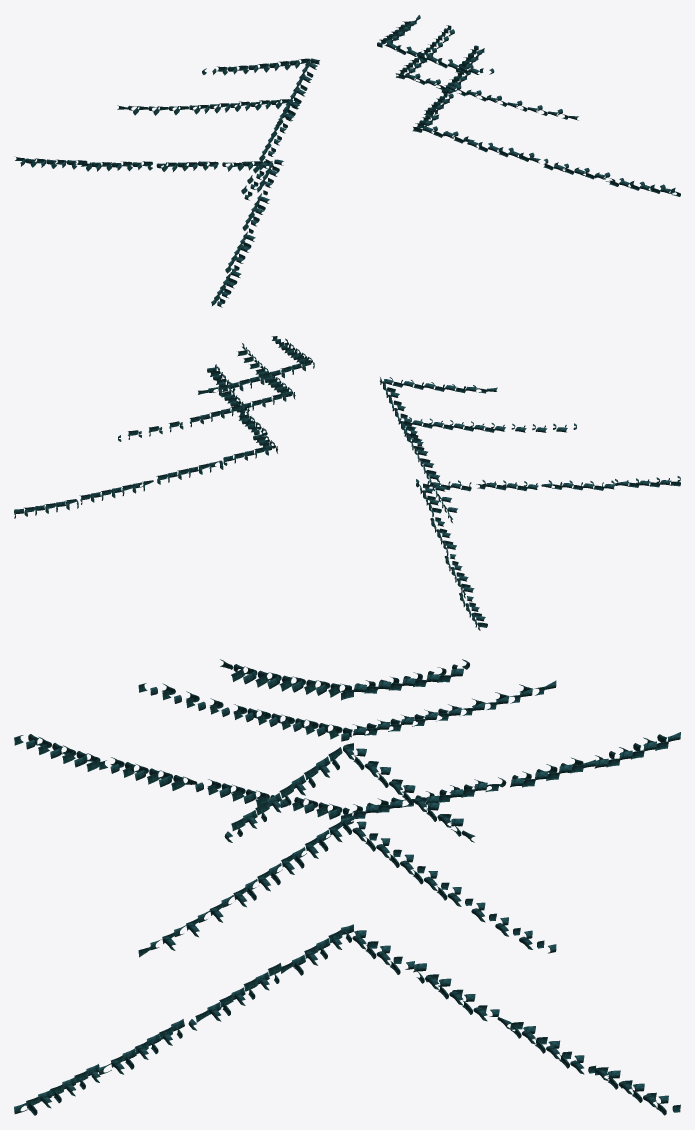
File: R81-03-B-SIX-MERGED-TRUE-HIP-TILE-GLB.glb
3 renders of one model, top to bottom at view 1: azimuth 30°, elevation 25°; view 2: azimuth 150°, elevation 25°; view 3: azimuth 270°, elevation 25°, orthographic. The views are drawn at different scales.
Visible parts, largest first — view 1: R81_B_lower_barrel_SEALED_HIP_TILES, R81_B_lower_pan_SEALED_HIP_TILES, R81_B_middle_barrel_SEALED_HIP_TILES, R81_B_upper_barrel_SEALED_HIP_TILES, R81_B_middle_pan_SEALED_HIP_TILES, R81_B_upper_pan_SEALED_HIP_TILES; view 2: R81_B_lower_barrel_SEALED_HIP_TILES, R81_B_lower_pan_SEALED_HIP_TILES, R81_B_middle_barrel_SEALED_HIP_TILES, R81_B_upper_barrel_SEALED_HIP_TILES, R81_B_middle_pan_SEALED_HIP_TILES, R81_B_upper_pan_SEALED_HIP_TILES; view 3: R81_B_lower_barrel_SEALED_HIP_TILES, R81_B_lower_pan_SEALED_HIP_TILES, R81_B_middle_barrel_SEALED_HIP_TILES, R81_B_upper_barrel_SEALED_HIP_TILES, R81_B_middle_pan_SEALED_HIP_TILES, R81_B_upper_pan_SEALED_HIP_TILES.
Part boxes in pixels (x1,y1,x2,y2): R81_B_lower_barrel_SEALED_HIP_TILES: (14, 49, 671, 307); R81_B_lower_pan_SEALED_HIP_TILES: (20, 45, 680, 305); R81_B_middle_barrel_SEALED_HIP_TILES: (117, 25, 578, 200); R81_B_upper_barrel_SEALED_HIP_TILES: (202, 15, 494, 128); R81_B_middle_pan_SEALED_HIP_TILES: (128, 28, 568, 196); R81_B_upper_pan_SEALED_HIP_TILES: (212, 19, 483, 122); R81_B_lower_barrel_SEALED_HIP_TILES: (24, 366, 680, 630); R81_B_lower_pan_SEALED_HIP_TILES: (14, 364, 680, 627); R81_B_middle_barrel_SEALED_HIP_TILES: (118, 343, 576, 522); R81_B_upper_barrel_SEALED_HIP_TILES: (198, 336, 497, 446); R81_B_middle_pan_SEALED_HIP_TILES: (128, 347, 566, 518); R81_B_upper_pan_SEALED_HIP_TILES: (208, 339, 486, 442); R81_B_lower_barrel_SEALED_HIP_TILES: (14, 732, 680, 1108); R81_B_lower_pan_SEALED_HIP_TILES: (14, 734, 680, 1115); R81_B_middle_barrel_SEALED_HIP_TILES: (138, 680, 556, 957); R81_B_upper_barrel_SEALED_HIP_TILES: (220, 659, 475, 842); R81_B_middle_pan_SEALED_HIP_TILES: (150, 687, 544, 949); R81_B_upper_pan_SEALED_HIP_TILES: (233, 664, 461, 836).
Bounding box in the file's own units: 185 × 49.2 × 139.
Materials: 1 (1 with a texture image).
